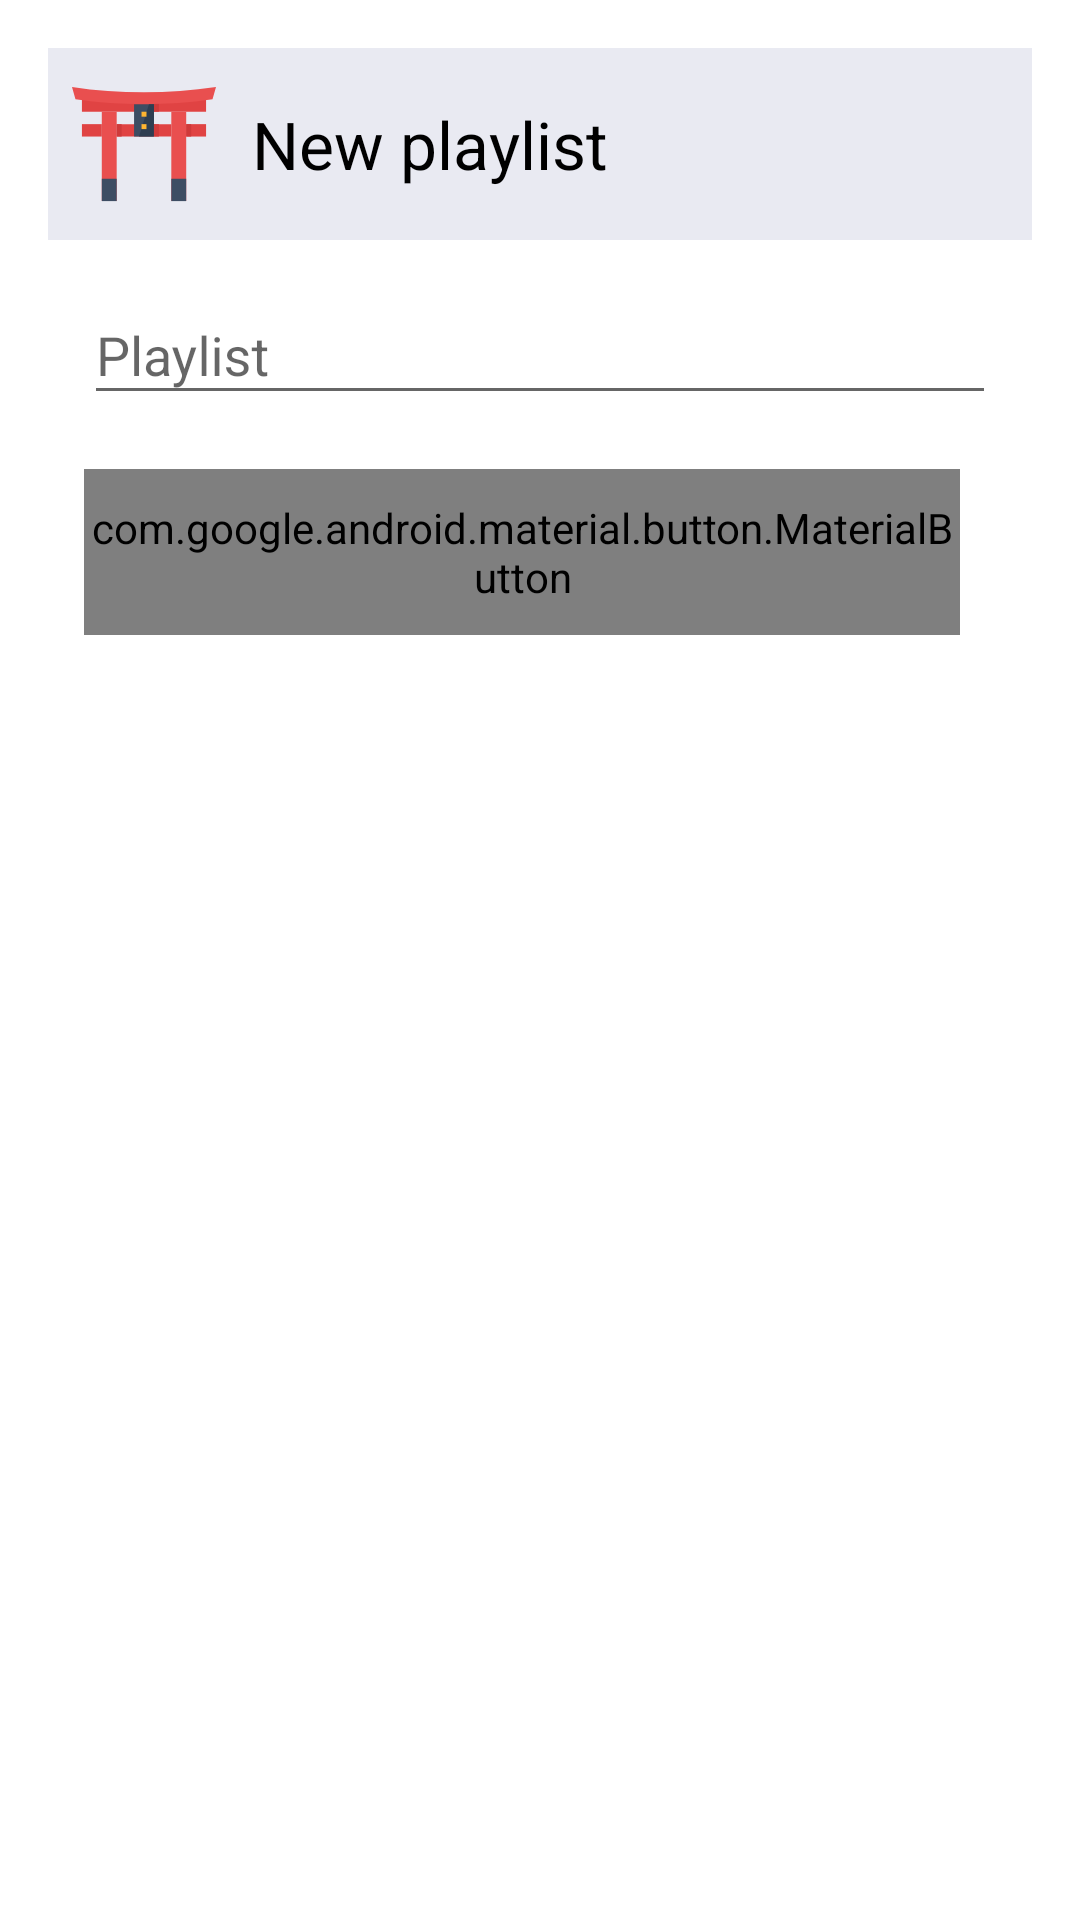

Where to tap for icons on this 1080×1920 app screen, as point (x, y):
japan: point (120, 127)
